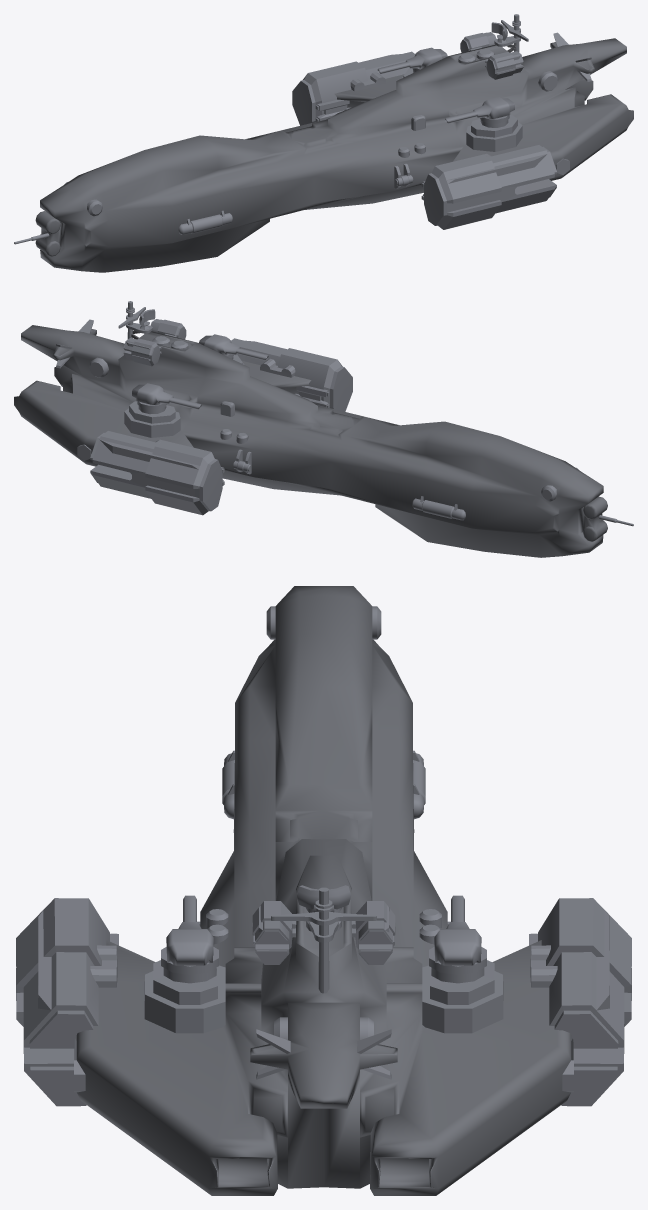
File: tesser.glb
3 renders of one model, top to bottom at view 1: azimuth 30°, elevation 25°; view 2: azimuth 150°, elevation 25°; view 3: azimuth 270°, elevation 25°, orthographic. The views are drawn at different scales.
Parts seen in each view (by area): view 1: struts_low; view 2: struts_low; view 3: struts_low.
Part boxes in pixels (box(x1,y1,x2,y2)): struts_low: box(14, 14, 633, 272); struts_low: box(14, 301, 633, 557); struts_low: box(16, 586, 631, 1195).
Size of the model in its own units: 2 by 0.496 by 0.8823.
Materials: 2 (2 with a texture image).
